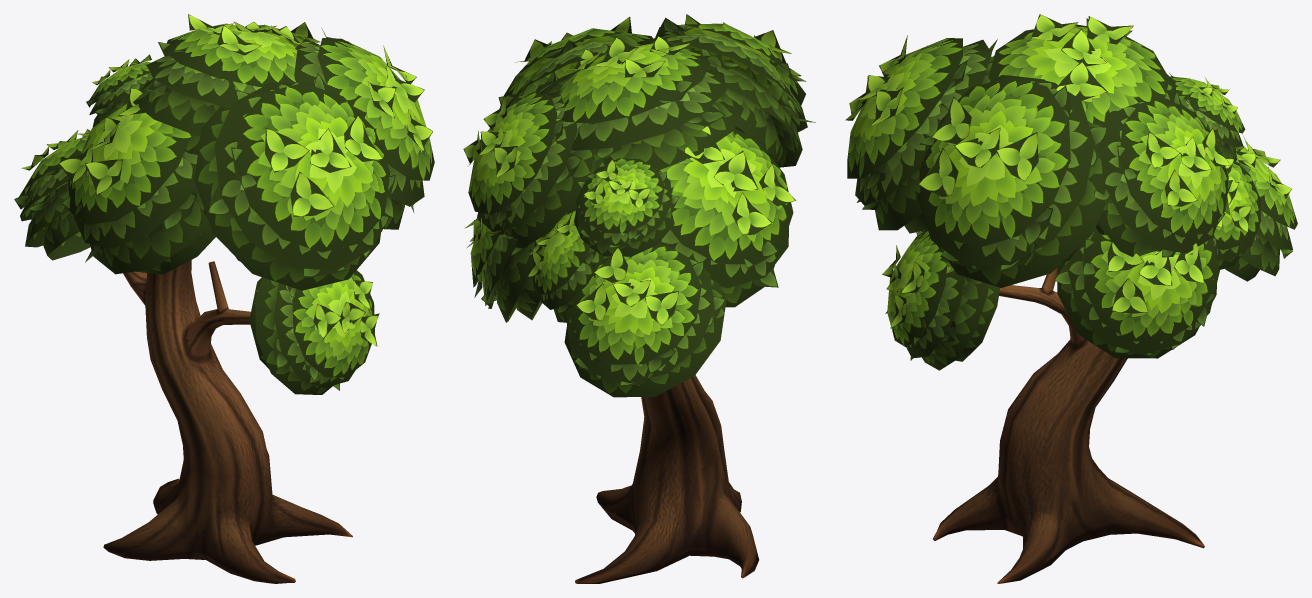
File: tree001.fbx
The picture shows the model from 3 angles, left to right: view 1: azimuth 30°, elevation 25°; view 2: azimuth 150°, elevation 25°; view 3: azimuth 270°, elevation 25°; orthographic projection. The views are drawn at different scales.
Visible parts, largest first — view 1: Tree01; view 2: Tree01; view 3: Tree01.
Boxes of the visible parts, bbox=[...] form: Tree01: bbox=[14, 14, 434, 583]; Tree01: bbox=[463, 14, 815, 583]; Tree01: bbox=[845, 14, 1297, 583].
Bounding box in the file's own units: 1354 × 2085 × 1645.
